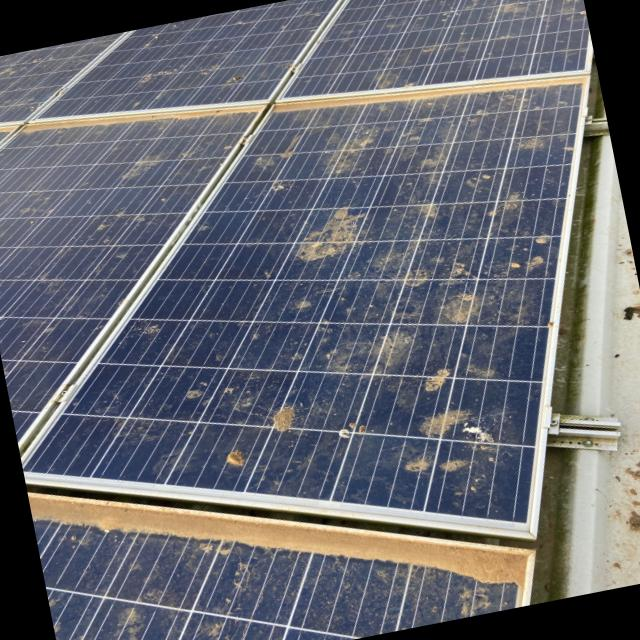faulty: (0, 0, 585, 442), (24, 82, 584, 542), (35, 531, 536, 640)
